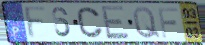6: (51, 6, 72, 39)
C: (76, 6, 105, 39)
E: (99, 5, 131, 41)
F: (23, 4, 48, 40), (157, 7, 180, 40)
Q: (131, 6, 162, 40)
